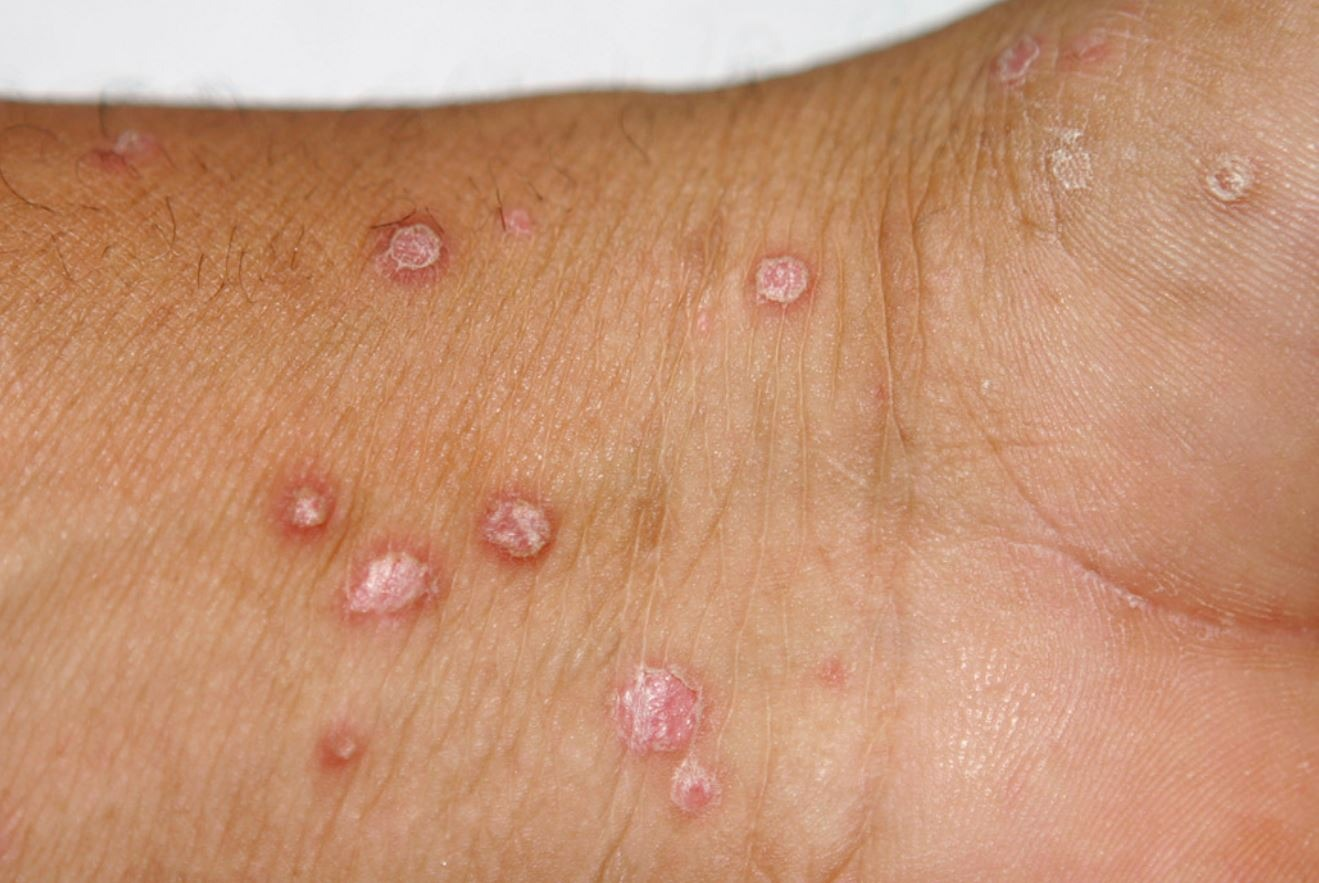Psoriasis: (611, 656, 716, 765), (368, 197, 476, 293), (476, 481, 584, 570), (341, 534, 431, 629), (743, 240, 831, 325), (277, 467, 361, 538)
